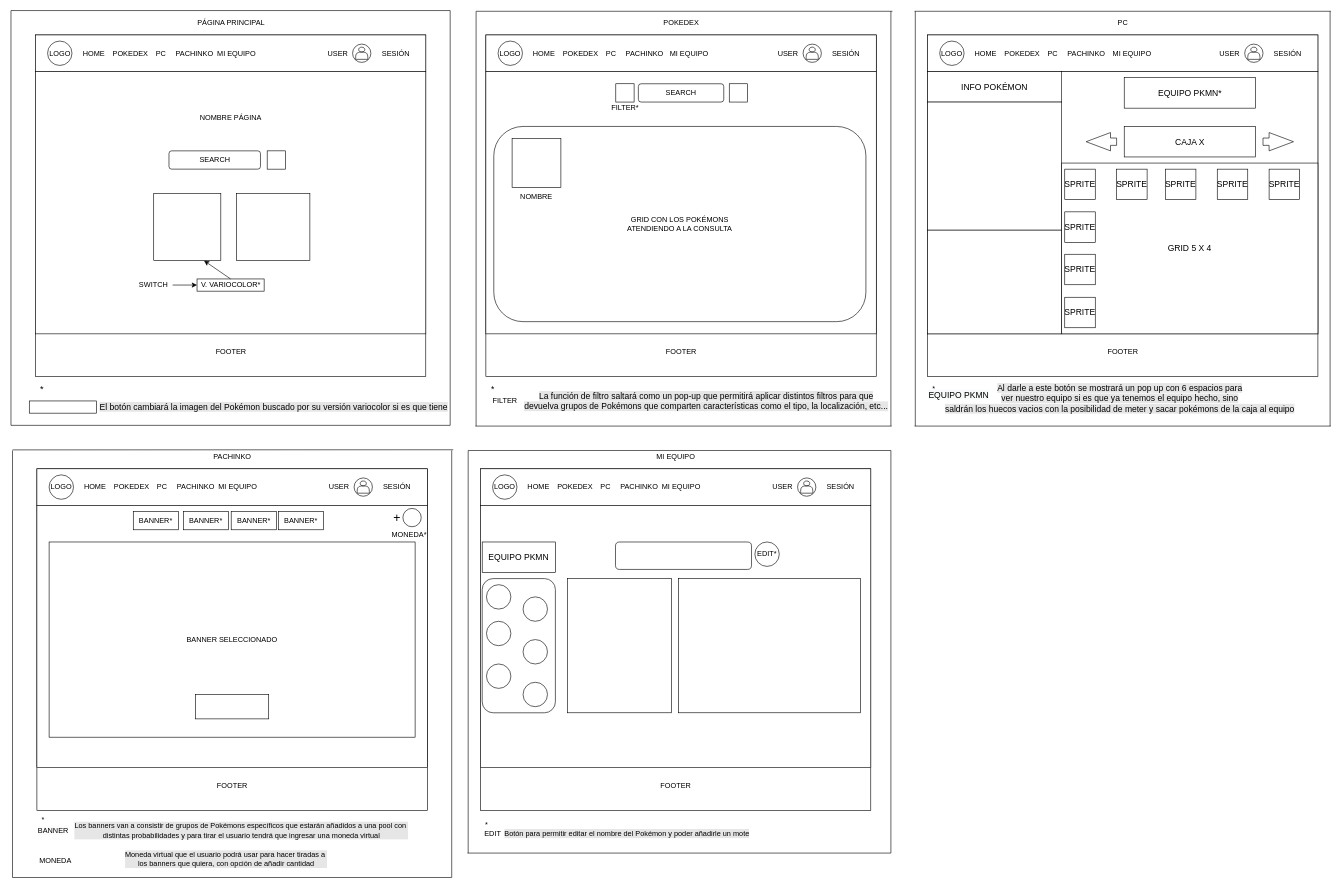
The diagram is 1342 pixels wide and 889 high, and some of its shapes have lost their labels. The centre of each missing label's shape, as x and y in pixels:
CARACTERÍSTICAS: point (994, 282)
ESTADÍSTICAS DEL POKÉMON: point (769, 645)
FOTO POKÉMON: point (994, 165)
IMAGEN: point (536, 162)
IMAGEN POKÉMON: point (187, 227)
INFORMACIÓN: point (273, 227)
NOMBRE POKÉMON: point (683, 555)
SPRITE 3D POKÉMON: point (619, 645)
TIRAR: point (232, 706)
V. VARIOCOLOR: point (62, 406)
